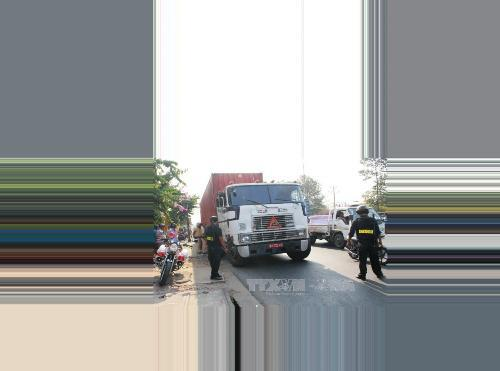License_Plate: (268, 240, 284, 250)
